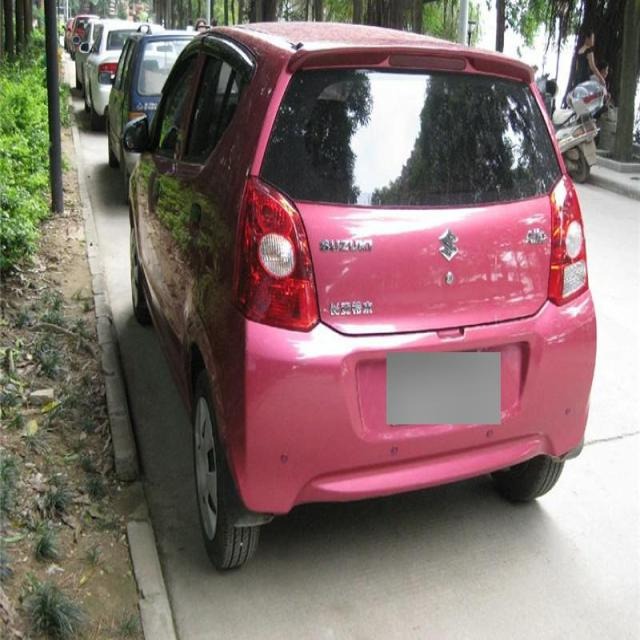back_glass: (258, 64, 566, 206)
back_left_side_light: (229, 170, 322, 338)
back_right_side_light: (546, 173, 590, 310)
front_left_side_door: (138, 30, 203, 333)
front_left_side_mirror: (120, 113, 151, 153)
rear_bumper: (206, 286, 598, 517)
wheel: (190, 377, 259, 577)
